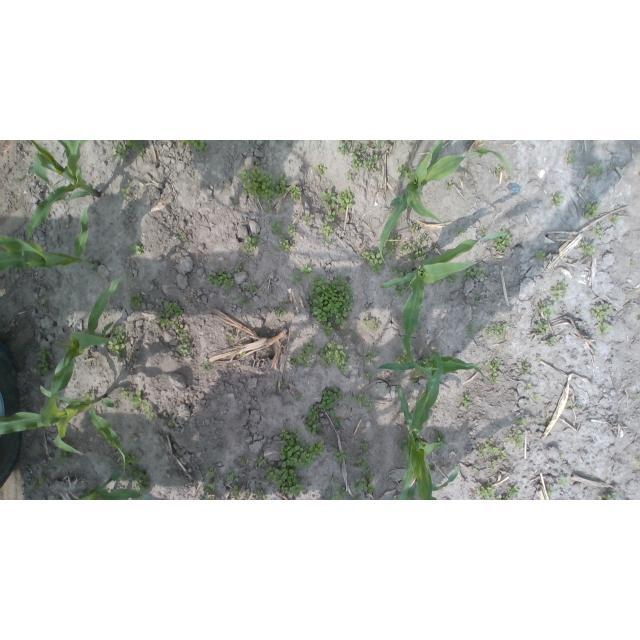Maize: (379, 233, 506, 372), (379, 142, 510, 263), (36, 276, 136, 429), (1, 384, 128, 470), (397, 350, 460, 499), (24, 141, 102, 240), (1, 205, 100, 274), (377, 354, 486, 380), (74, 468, 145, 500)
Weeds: (307, 272, 353, 337), (280, 427, 325, 469), (237, 167, 289, 200), (265, 465, 308, 499), (319, 343, 350, 376), (110, 471, 151, 494), (400, 235, 429, 263), (36, 346, 56, 378), (174, 321, 191, 356), (208, 270, 236, 291), (318, 387, 343, 410), (108, 326, 126, 357), (296, 341, 317, 367), (303, 406, 321, 436), (492, 225, 512, 251), (481, 323, 508, 341), (362, 252, 385, 273), (319, 189, 339, 212), (355, 456, 373, 481), (160, 301, 184, 319), (351, 143, 366, 171), (591, 303, 614, 321), (383, 235, 401, 257), (354, 478, 375, 496), (549, 281, 567, 302), (340, 188, 355, 213), (118, 452, 140, 469), (179, 141, 207, 154), (537, 301, 556, 320), (349, 393, 372, 408), (130, 391, 149, 409), (125, 140, 145, 157), (397, 164, 415, 181), (111, 142, 128, 160), (480, 482, 497, 500), (464, 266, 485, 280), (598, 320, 615, 337), (240, 236, 258, 252), (329, 410, 344, 429), (154, 315, 174, 329), (479, 443, 499, 457), (327, 488, 348, 501), (490, 358, 501, 382), (579, 240, 595, 256), (583, 203, 599, 219), (587, 162, 603, 178), (287, 184, 302, 201), (364, 155, 378, 173), (57, 447, 71, 465), (127, 243, 145, 256), (399, 436, 410, 456), (320, 221, 333, 237), (280, 236, 293, 252), (127, 296, 143, 309), (536, 320, 549, 336), (446, 275, 464, 286), (391, 267, 409, 278), (364, 350, 378, 364), (337, 141, 349, 156), (552, 191, 564, 206), (515, 428, 523, 449), (335, 451, 350, 462), (300, 264, 312, 277), (174, 232, 187, 244), (326, 476, 340, 487), (598, 492, 617, 500), (507, 486, 519, 498), (396, 354, 409, 365), (203, 483, 216, 494), (226, 469, 237, 482), (504, 430, 514, 444), (144, 406, 153, 421), (536, 250, 547, 262), (412, 371, 424, 382), (396, 283, 406, 296), (240, 292, 248, 308), (419, 356, 433, 365), (409, 223, 420, 234), (325, 212, 336, 223), (315, 165, 327, 175), (287, 224, 297, 236), (567, 151, 577, 163), (461, 395, 471, 407), (272, 221, 281, 234), (82, 392, 95, 401), (207, 466, 218, 476), (465, 325, 475, 336), (523, 362, 532, 374), (565, 403, 577, 412), (546, 484, 555, 496), (436, 432, 445, 444), (275, 307, 285, 317), (248, 282, 258, 292), (120, 187, 130, 197), (360, 443, 370, 453), (517, 417, 528, 426), (593, 224, 601, 236), (292, 273, 301, 283), (557, 478, 567, 487), (611, 213, 620, 223), (455, 228, 465, 237), (257, 490, 266, 500), (256, 456, 265, 466), (498, 450, 507, 460), (548, 335, 556, 346), (491, 460, 499, 471), (363, 317, 375, 324), (38, 476, 47, 485), (120, 391, 129, 400), (238, 455, 246, 465), (266, 200, 272, 213), (233, 484, 240, 495), (376, 140, 384, 149), (347, 172, 355, 181), (90, 264, 98, 273), (288, 356, 296, 365), (304, 214, 314, 221), (127, 435, 137, 442), (226, 333, 232, 344), (364, 404, 372, 412), (474, 300, 484, 306), (533, 394, 539, 404), (497, 495, 509, 500), (363, 373, 371, 380), (44, 301, 51, 309), (201, 362, 207, 371), (235, 264, 241, 273), (487, 438, 494, 445), (629, 260, 635, 268), (168, 421, 176, 427), (374, 322, 380, 329), (33, 485, 39, 492), (527, 382, 533, 389), (232, 198, 237, 206), (495, 164, 500, 172), (434, 280, 441, 285), (636, 458, 640, 466), (447, 182, 451, 189), (636, 393, 640, 400), (297, 396, 302, 401), (62, 439, 67, 444), (56, 496, 61, 501), (480, 229, 485, 234), (327, 240, 333, 244), (239, 352, 245, 356), (540, 419, 545, 423), (536, 357, 540, 362), (280, 380, 284, 384), (287, 142, 291, 146), (486, 364, 489, 368)
